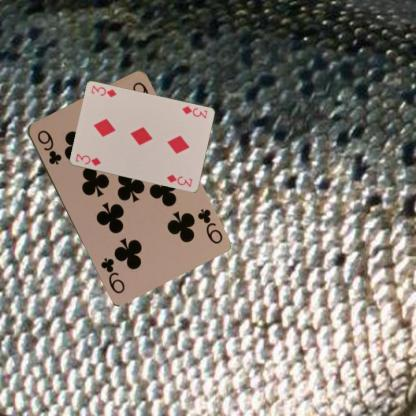3d: (179, 103, 209, 120), (72, 151, 102, 167)
9c: (194, 206, 224, 245), (34, 127, 63, 166)
